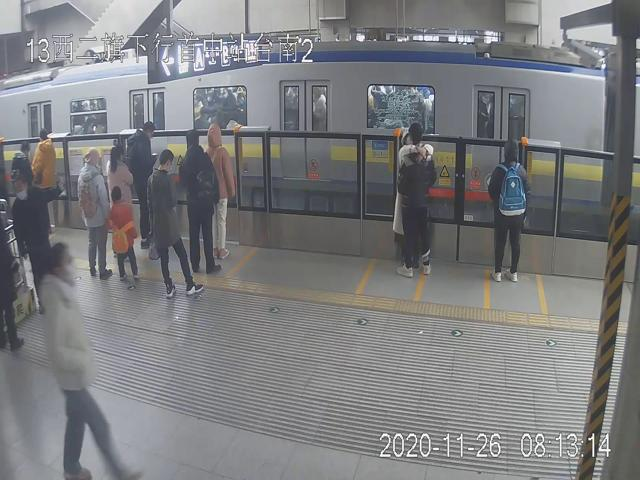person: (147, 149, 206, 297), (11, 170, 64, 313), (180, 129, 221, 274), (488, 141, 529, 280), (397, 124, 434, 278), (77, 148, 112, 280), (205, 120, 234, 260), (127, 121, 158, 246), (108, 187, 140, 282)
